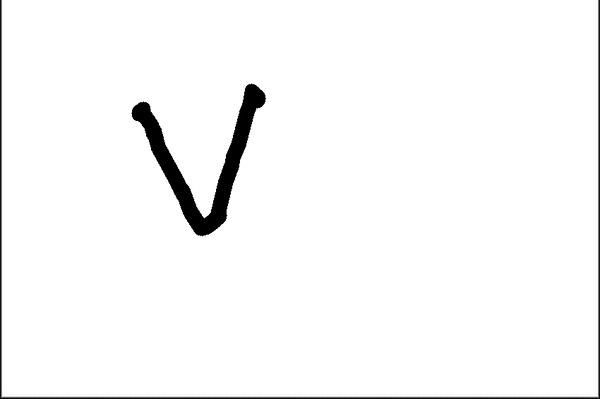V: (125, 72, 271, 243)
